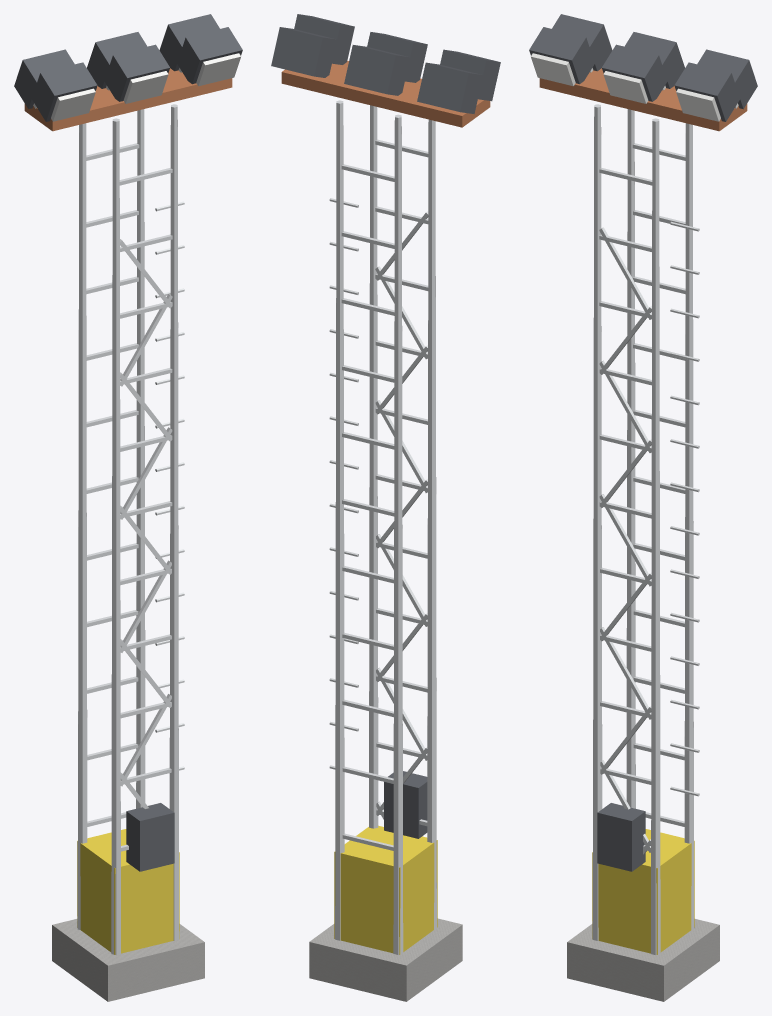
Rendered from shipyard-and-dry-dock-shipyard-and-dry-dock-floodlight-c20bdd87__37939.glb.
3 views of the same model, side by side, from view 1: azimuth 30°, elevation 25°; view 2: azimuth 150°, elevation 25°; view 3: azimuth 330°, elevation 25° (orthographic).
Visible parts, largest first — view 1: shipyard-and-dry-dock-floodlight-mast; view 2: shipyard-and-dry-dock-floodlight-mast; view 3: shipyard-and-dry-dock-floodlight-mast.
Part boxes in pixels (box(x1,y1,x2,y2)): shipyard-and-dry-dock-floodlight-mast: box(14, 14, 242, 1001); shipyard-and-dry-dock-floodlight-mast: box(271, 14, 500, 1001); shipyard-and-dry-dock-floodlight-mast: box(529, 14, 757, 1001).
Bounding box in the file's own units: 2.72 × 12.76 × 1.42.
6 materials, 1 textured.
